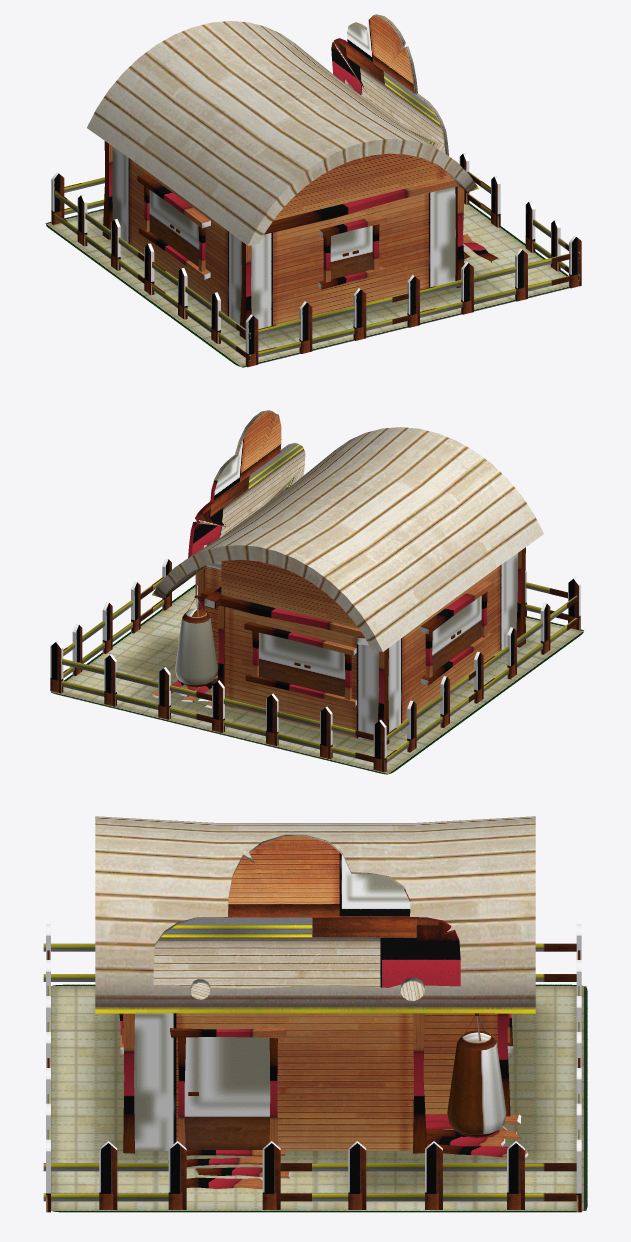
File: farm_build_01.fbx
3 views of the same model, one above another, from view 1: azimuth 30°, elevation 25°; view 2: azimuth 150°, elevation 25°; view 3: azimuth 270°, elevation 25° (orthographic). The views are drawn at different scales.
Parts seen in each view (by area): view 1: farm_build_01, farm_build_01_tile; view 2: farm_build_01, farm_build_01_tile; view 3: farm_build_01, farm_build_01_tile.
Part boxes in pixels (x1,y1,x2,y2): farm_build_01: (51, 14, 581, 367); farm_build_01_tile: (45, 203, 569, 367); farm_build_01: (50, 410, 580, 772); farm_build_01_tile: (51, 584, 583, 774); farm_build_01: (43, 816, 581, 1212); farm_build_01_tile: (51, 984, 587, 1212).
Size of the model in its own units: 8.97 by 5.05 by 8.97.
